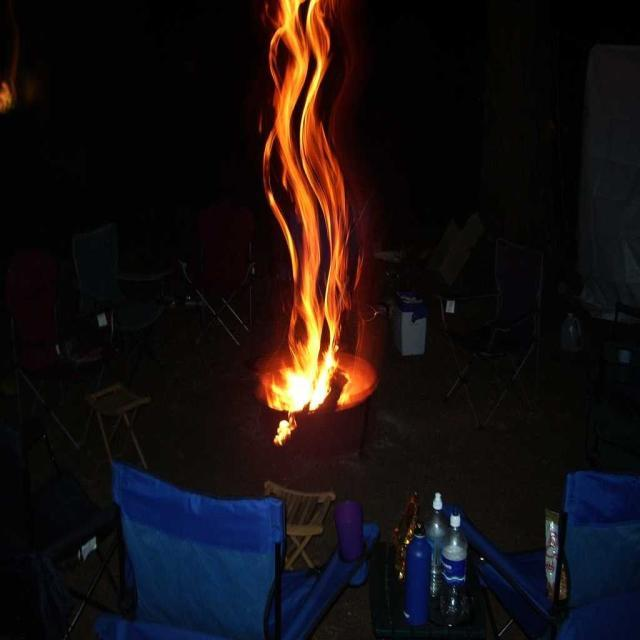Fire: (276, 5, 328, 405)
